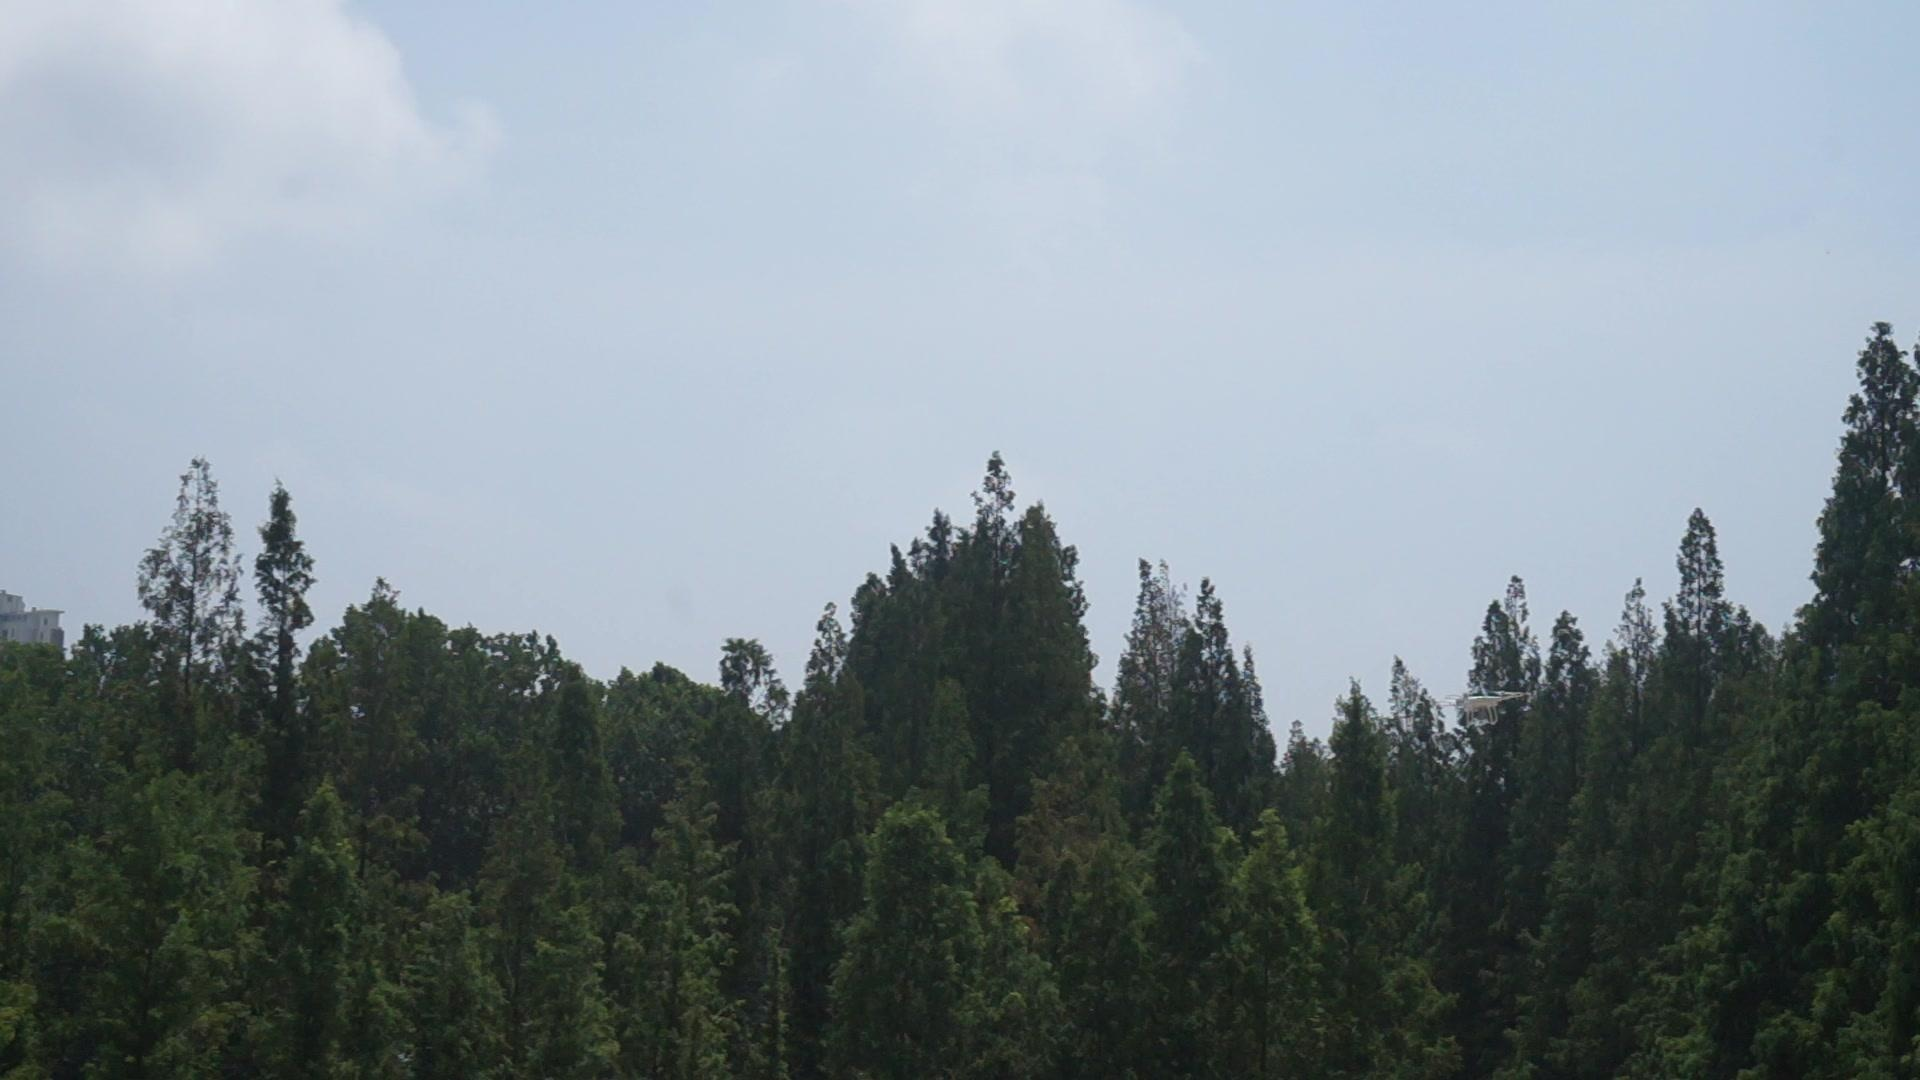UAV: (1436, 692, 1524, 729)
